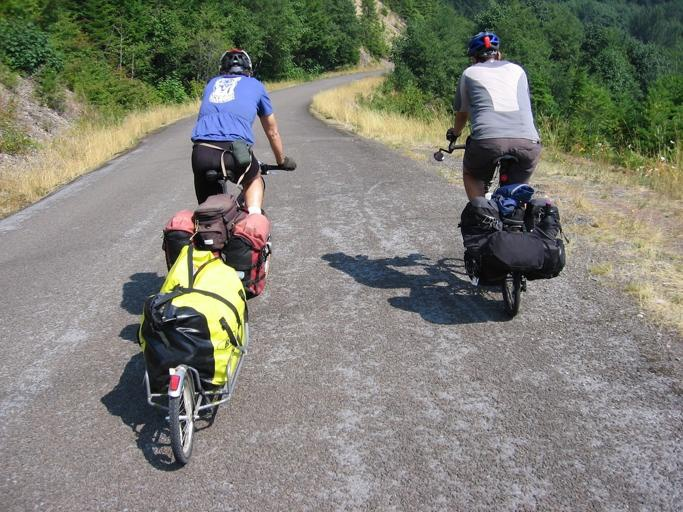non-vehicle: (432, 130, 527, 316), (190, 159, 290, 304)
